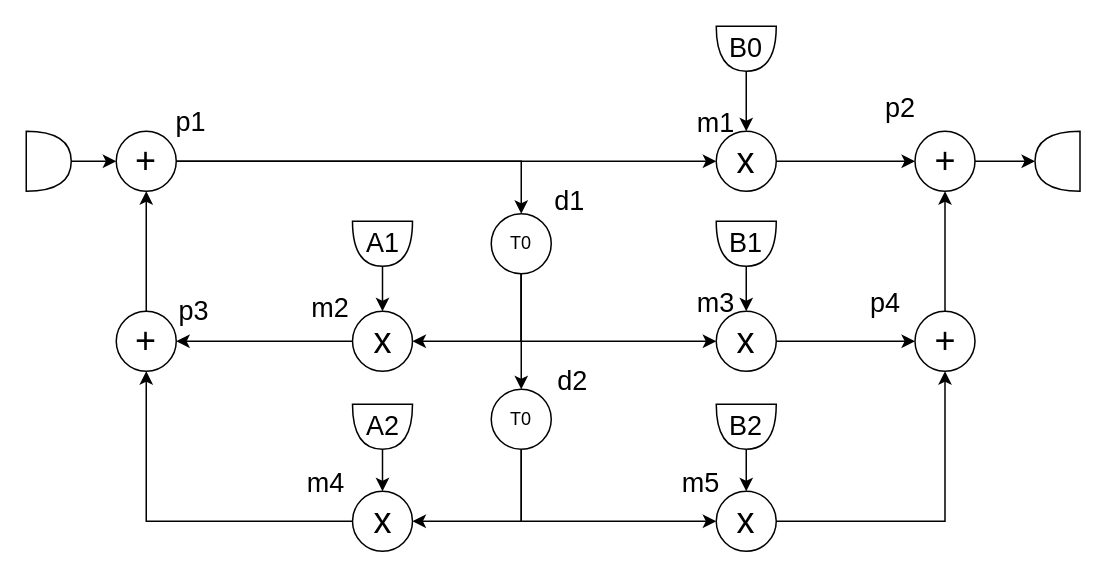
Image size: 1107x578. Some labels were removed from this diagram. The centre of each missing label's shape, as x and y in pixels:
Xn: point 48,160
Yn: point 1057,160
